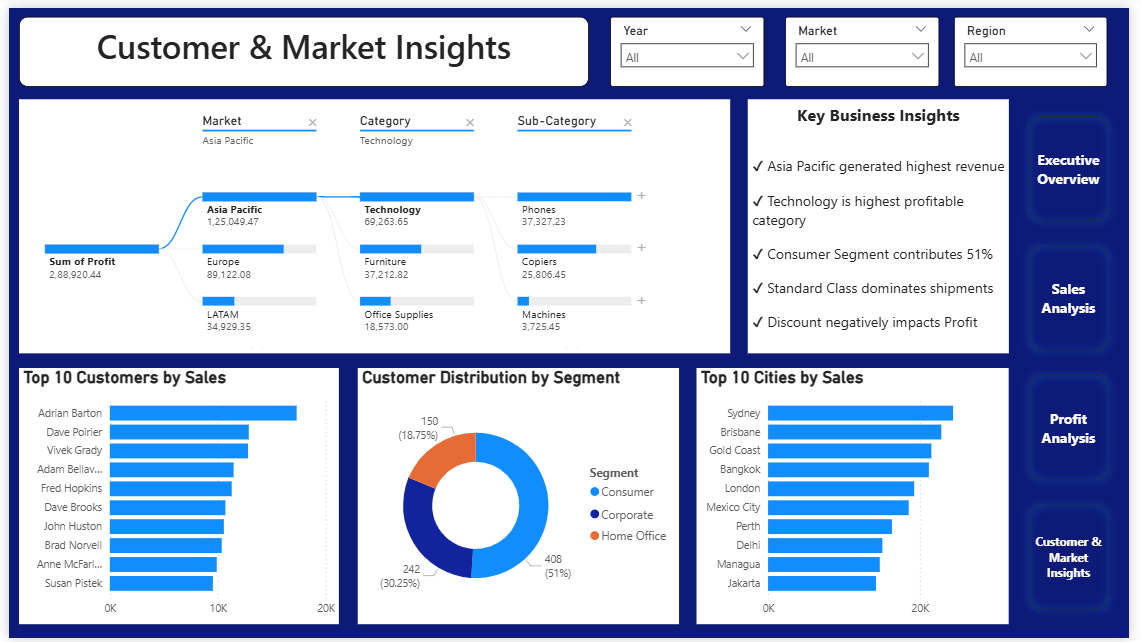

Layout of this report page (visuals, bound fields, positions):
{"tool":"powerbi","page":{"name":"Customer & Market Insights","canvas":[1280,720],"ordinal":3},"visuals":[{"type":"textbox","box":[11.4,10,651.4,80],"z":0},{"type":"slicer","fields":{"Values":["Global_Superstore_cleaned.Order Date.Variation.Date Hierarchy.Year"]},"box":[687.1,10,175.7,80],"z":1000},{"type":"slicer","fields":{"Values":["Global_Superstore_cleaned.Market"]},"box":[887.1,10,175.7,80],"z":2000},{"type":"slicer","fields":{"Values":["Global_Superstore_cleaned.Region"]},"box":[1080,10,175,80],"z":3000},{"type":"decompositionTreeVisual","fields":{"Analyze":["Sum(Global_Superstore_cleaned.Profit)"],"ExplainBy":["Global_Superstore_cleaned.Market","Global_Superstore_cleaned.Category","Global_Superstore_cleaned.Sub-Category","Global_Superstore_cleaned.Product Name"]},"box":[11.4,104.3,812.9,290],"z":4000},{"type":"donutChart","title":"Customer Distribution by Segment","fields":{"Category":["Global_Superstore_cleaned.Segment"],"Y":["Count(Global_Superstore_cleaned.Customer ID)"]},"box":[398.6,411.4,367.1,292.9],"z":5000},{"type":"clusteredBarChart","title":"Top 10 Customers by Sales","fields":{"Category":["Global_Superstore_cleaned.Customer Name"],"Y":["Sum(Global_Superstore_cleaned.Sales)"]},"box":[11.4,411.4,365.7,292.9],"z":6000},{"type":"clusteredBarChart","title":"Top 10 Cities by Sales","fields":{"Y":["Sum(Global_Superstore_cleaned.Sales)"],"Category":["Global_Superstore_cleaned.City"]},"box":[785.7,411.4,357.1,292.9],"z":7000},{"type":"textbox","box":[844.3,104.3,298.6,290],"z":8000},{"type":"pageNavigator","box":[1155.7,114.3,110,584.3],"z":8001}]}

Visuals, with their boxes in screenshot pixels (x1, y1, x2, y2), scaled from the page's 1280x720 canvas onto the 1141x642 screenshot:
textbox: rect(10, 9, 591, 80)
slicer - Global_Superstore_cleaned.Order Date.Variation.Date Hierarchy.Year: rect(612, 9, 769, 80)
slicer - Global_Superstore_cleaned.Market: rect(791, 9, 947, 80)
slicer - Global_Superstore_cleaned.Region: rect(963, 9, 1119, 80)
decompositionTreeVisual - Sum(Global_Superstore_cleaned.Profit) x Global_Superstore_cleaned.Market: rect(10, 93, 735, 352)
"Customer Distribution by Segment" donutChart: rect(355, 367, 683, 628)
"Top 10 Customers by Sales" clusteredBarChart: rect(10, 367, 336, 628)
"Top 10 Cities by Sales" clusteredBarChart: rect(700, 367, 1019, 628)
textbox: rect(753, 93, 1019, 352)
pageNavigator: rect(1030, 102, 1128, 623)
